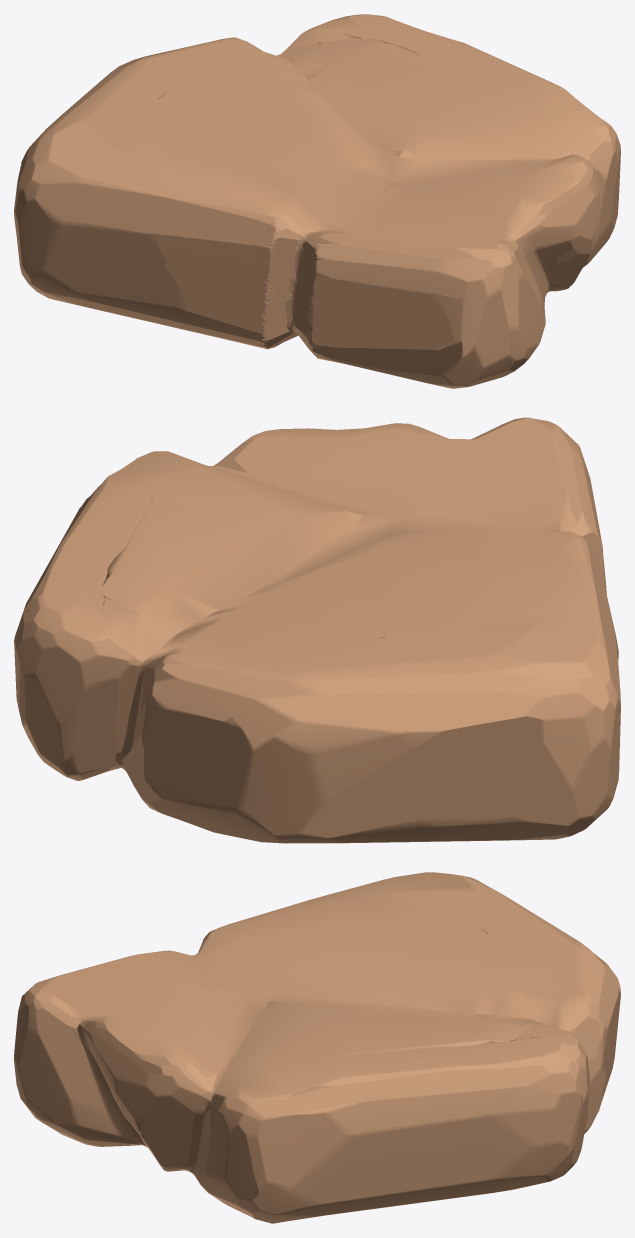
3 renders of one model, top to bottom at view 1: azimuth 30°, elevation 25°; view 2: azimuth 150°, elevation 25°; view 3: azimuth 270°, elevation 25°, orthographic. The views are drawn at different scales.
Parts seen in each view (by area): view 1: Mesh_108_LOD0; view 2: Mesh_108_LOD0; view 3: Mesh_108_LOD0.
Boxes of the visible parts, x1,y1,x2,y2 form: Mesh_108_LOD0: (14, 14, 620, 388); Mesh_108_LOD0: (14, 417, 620, 843); Mesh_108_LOD0: (14, 872, 620, 1223).
Size of what is drawn, in the model's own units: 1462 by 435 by 1558.
